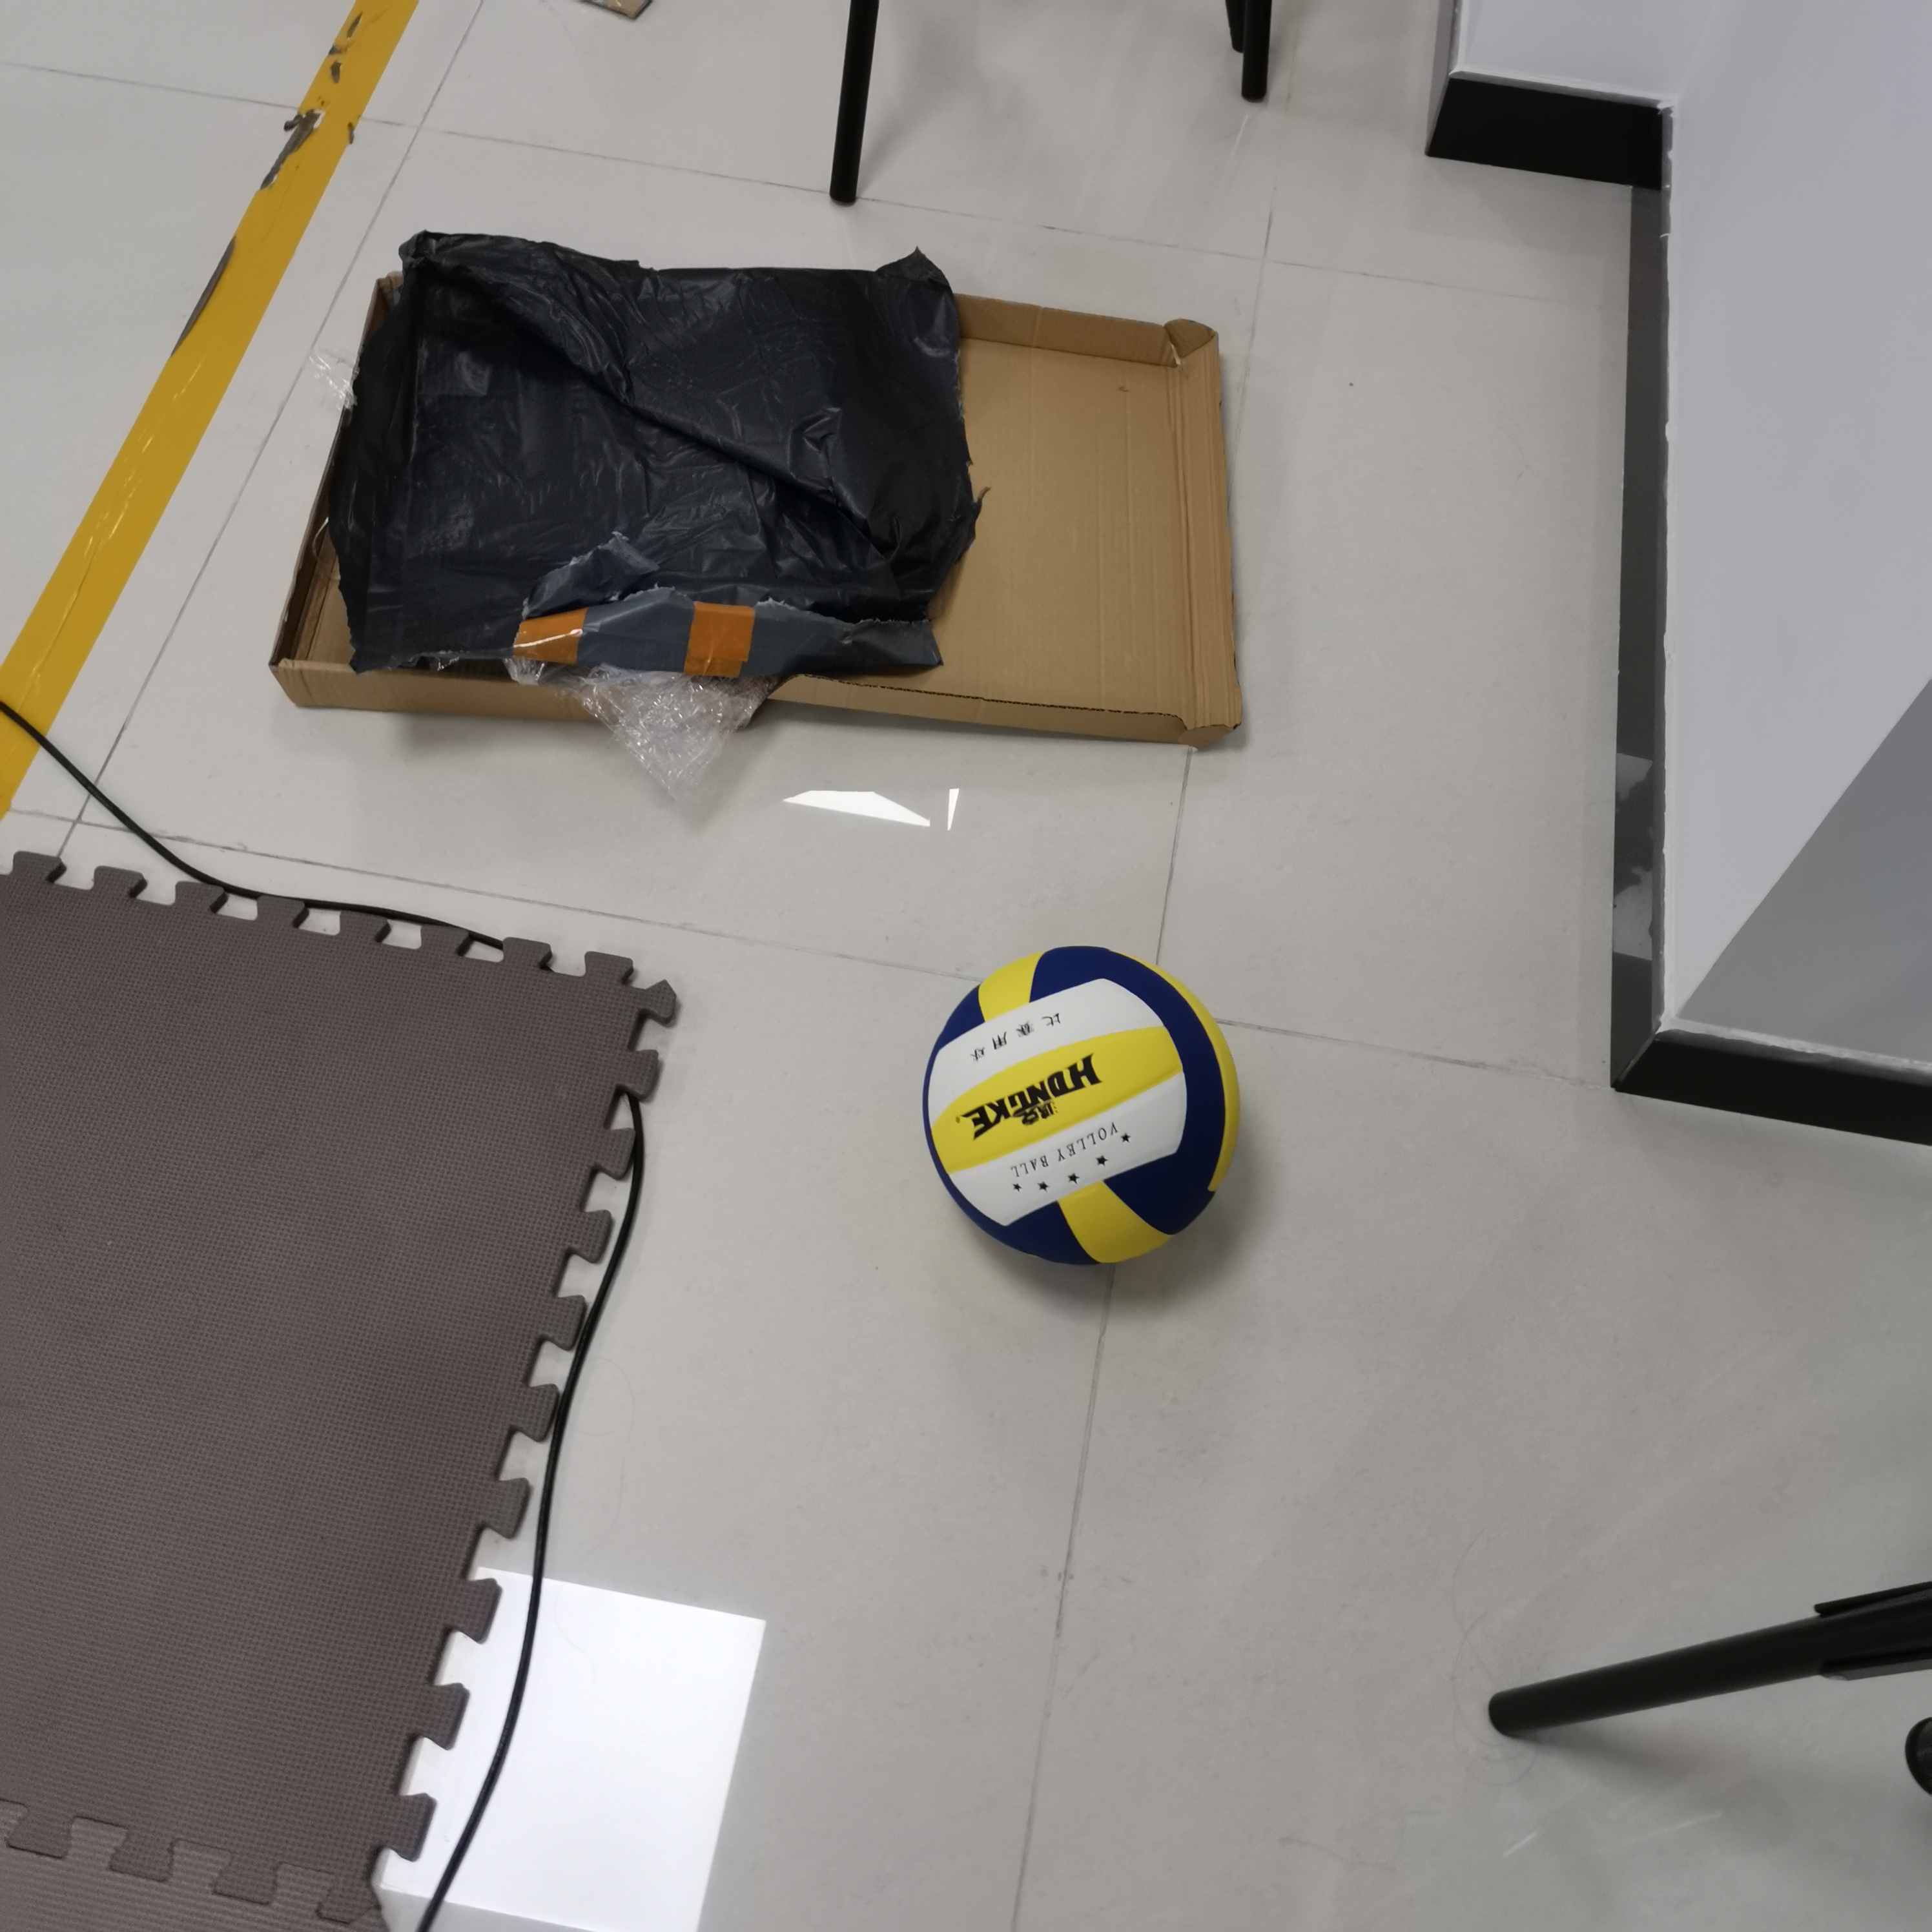volleyball: (925, 945, 1240, 1270)
